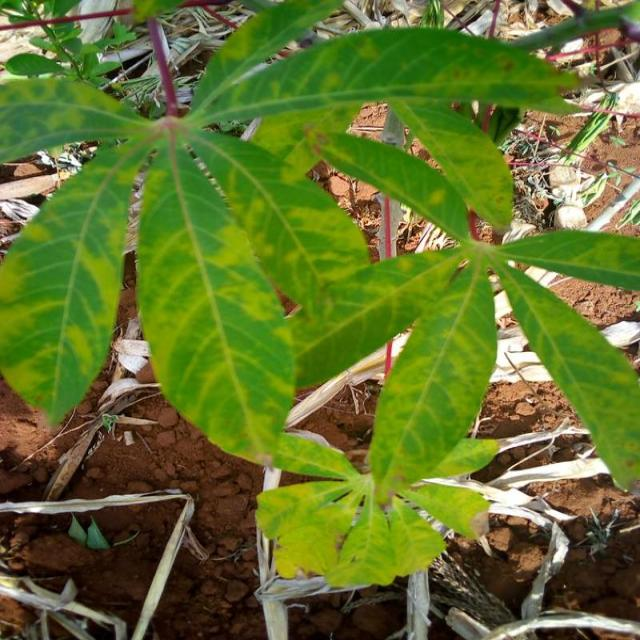cassava leaf: (0, 1, 639, 595), (134, 134, 297, 468), (0, 138, 139, 428), (367, 250, 498, 504)
